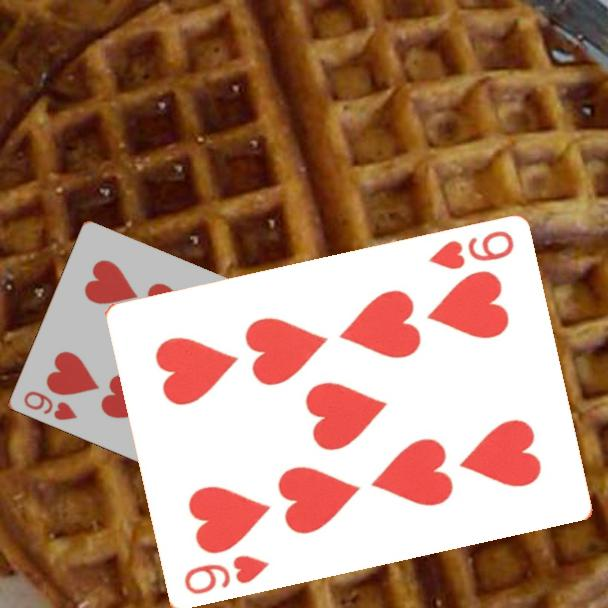h09: (180, 552, 272, 598), (425, 227, 517, 273), (20, 388, 80, 423)
